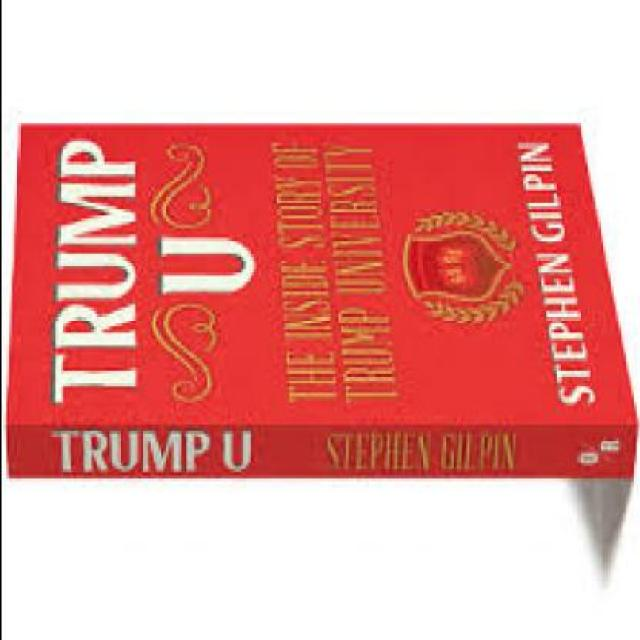PAPER: (2, 124, 635, 481)
